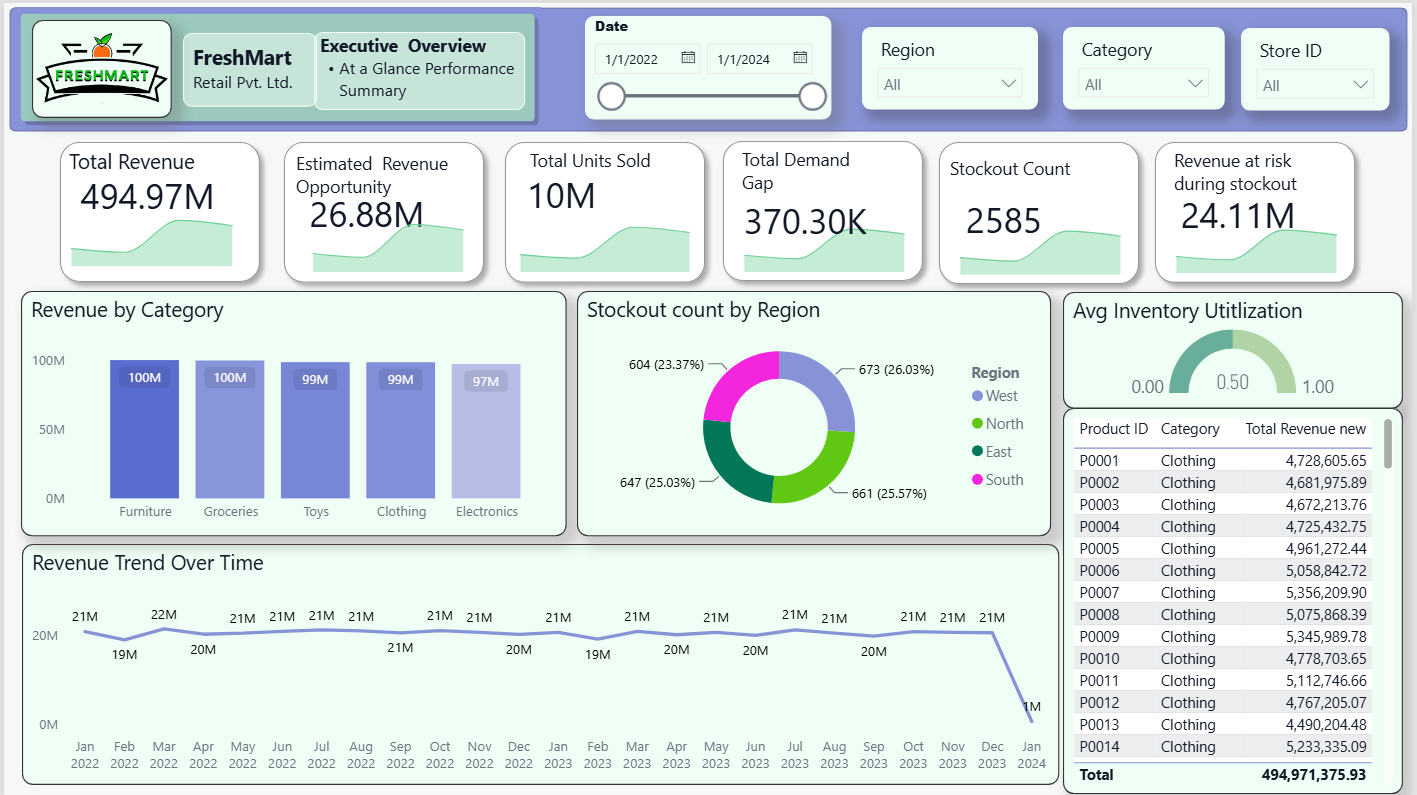

This screenshot's page, from the dashboard's own definition file:
{"tool":"powerbi","page":{"name":"FreshMart Revenue Leakage Investigation Dashboard","canvas":[1280,720],"ordinal":0},"visuals":[{"type":"shape","box":[0.9,0,1279.1,120.9],"z":1000},{"type":"slicer","fields":{"Values":["inventory_records.Date"]},"box":[527.8,12.2,224.4,94.4],"z":2000},{"type":"lineChart","title":"Revenue Trend Over Time","fields":{"Category":["Calendar.Month Year"],"Y":["inventory_records.Total Revenue new"]},"box":[16.7,492.2,943.3,218.9],"z":3000},{"type":"clusteredColumnChart","title":"Revenue by Category","fields":{"Category":["inventory_records.Category"],"Y":["inventory_records.Total Revenue new"]},"box":[15.7,261.4,496,222.5],"z":4000},{"type":"donutChart","fields":{"Category":["inventory_records.Region"],"Y":["inventory_records.Stockout count"]},"box":[521,262,431.4,222.9],"z":5000},{"type":"gauge","fields":{"Y":["inventory_records.Avg Inventory Utitlization"]},"box":[962.9,262.9,308.6,105.7],"z":6000},{"type":"tableEx","fields":{"Values":["inventory_records.Product ID","inventory_records.Category","inventory_records.Total Revenue new"]},"box":[962.9,368.6,308.6,351.4],"z":7000},{"type":"slicer","fields":{"Values":["inventory_records.Store ID"]},"box":[1124.3,22.9,135.5,74.5],"z":8000},{"type":"slicer","fields":{"Values":["inventory_records.Category"]},"box":[963,22,147,75],"z":9000},{"type":"slicer","fields":{"Values":["inventory_records.Region"]},"box":[780,21.8,160,75.5],"z":11000},{"type":"group","id":"g1","title":"Group 1","box":[42,117.5,200,146],"z":12000},{"type":"group","id":"g2","title":"Group 2","box":[245.7,117,200,145.8],"z":13000},{"type":"group","id":"g3","title":"Group 3","box":[446,117,200,146],"z":14000},{"type":"group","id":"g4","title":"Group 4","box":[644.5,116.2,200,146.2],"z":15000},{"type":"group","id":"g5","title":"Group 4","box":[840.7,117.5,200,147.2],"z":16000},{"type":"shape","box":[9.1,3.6,479.4,110],"z":16500,"group":"g23"},{"type":"group","id":"g6","title":"Group 4","box":[1037,117,200.1,146.2],"z":17000},{"type":"group","id":"g7","title":"Group 7","box":[245.7,117,200,145.8],"z":17001,"group":"g2"},{"type":"group","id":"g8","title":"Group 6","box":[446,117,200,146],"z":17001,"group":"g3"},{"type":"group","id":"g9","title":"Group 9","box":[9.1,3.6,479.1,110],"z":18000},{"type":"image","box":[25.8,15.1,127.4,88.7],"z":18000,"group":"g23"},{"type":"group","id":"g10","title":"Group 3","box":[644.5,116.2,199.9,145.4],"z":18000,"group":"g4"},{"type":"group","id":"g11","title":"Group 2","box":[644.5,116.2,199.9,145.4],"z":18000,"group":"g10"},{"type":"shape","box":[644.5,116.2,199.9,145.4],"z":18000,"group":"g18"},{"type":"shape","box":[245.7,117,200,145.8],"z":18000,"group":"g19"},{"type":"group","id":"g12","title":"Group 2","box":[446,117,200,146],"z":18000,"group":"g8"},{"type":"shape","box":[446,117,200,146],"z":18000,"group":"g20"},{"type":"group","id":"g13","title":"Group 3","box":[1037,117,200.1,146.2],"z":18000,"group":"g17"},{"type":"group","id":"g14","title":"Group 2","box":[1037,117,200.1,146.2],"z":18000,"group":"g13"},{"type":"shape","box":[1037,117,200.1,146.2],"z":18000,"group":"g21"},{"type":"shape","box":[42,117.5,199.9,145.4],"z":18000,"group":"g1"},{"type":"group","id":"g15","title":"Group 3","box":[840.7,117.5,200,147.2],"z":18000,"group":"g5"},{"type":"group","id":"g16","title":"Group 2","box":[840.7,117.5,200,147.2],"z":18000,"group":"g15"},{"type":"shape","box":[840.7,117.5,200,147.2],"z":18000,"group":"g22"},{"type":"group","id":"g17","title":"Group 5","box":[1037,117,200.1,146.2],"z":18002,"group":"g6"},{"type":"textbox","box":[281.9,26.2,192,71],"z":18500},{"type":"card","fields":{"Values":["inventory_records.Revenue at Risk During Stockouts"]},"box":[1064.5,172.9,115,37.5],"z":18500,"group":"g17"},{"type":"card","fields":{"Values":["inventory_records.Stockout count"]},"box":[855.2,177.4,106.7,39.5],"z":18500,"group":"g5"},{"type":"card","fields":{"Values":["inventory_records.Total Demand Gap"]},"box":[664.2,180,128,36.2],"z":18500,"group":"g4"},{"type":"textbox","box":[163,27.6,121.5,67],"z":19000,"group":"g23"},{"type":"group","id":"g18","title":"Group 1","box":[644.5,116.2,199.9,145.4],"z":19000,"group":"g11"},{"type":"group","id":"g19","title":"Group 1","box":[245.7,117,200,145.8],"z":19000,"group":"g7"},{"type":"group","id":"g20","title":"Group 1","box":[446,117,200,146],"z":19000,"group":"g12"},{"type":"group","id":"g21","title":"Group 1","box":[1037,117,200.1,146.2],"z":19000,"group":"g14"},{"type":"group","id":"g22","title":"Group 1","box":[840.7,117.5,200,147.2],"z":19000,"group":"g16"},{"type":"card","fields":{"Values":["inventory_records.Total Units sold"]},"box":[463.3,159.5,86.5,28.3],"z":19000,"group":"g8"},{"type":"card","fields":{"Values":["inventory_records.Total Revenue new"]},"box":[59.6,161.9,143.3,27.4],"z":19000,"group":"g1"},{"type":"card","fields":{"Values":["inventory_records.Estimated Revenue Opportunity new"]},"box":[263.2,177,134.8,28.3],"z":19000,"group":"g19"},{"type":"group","id":"g23","title":"Group 8","box":[9.1,3.6,479.4,110],"z":19001,"group":"g9"},{"type":"textbox","box":[670.4,130.3,146.9,42.3],"z":20000,"group":"g18"},{"type":"textbox","box":[59.4,131.2,147.7,27.4],"z":20000,"group":"g1"},{"type":"textbox","box":[477.7,131.2,142.7,28.3],"z":20000,"group":"g20"},{"type":"textbox","box":[1063,131.2,147.1,42.5],"z":20000,"group":"g21"},{"type":"textbox","box":[265.7,133.8,159.7,42.8],"z":20000,"group":"g19"},{"type":"textbox","box":[859.8,139.4,147,42.8],"z":20000,"group":"g22"},{"type":"lineChart","fields":{"Category":["Calendar.Date.Variation.Date Hierarchy.Quarter"],"Y":["inventory_records.Total Revenue new"]},"box":[42,185.1,185.3,55.2],"z":21000,"group":"g1"},{"type":"lineChart","fields":{"Category":["Calendar.Date.Variation.Date Hierarchy.Quarter"],"Y":["inventory_records.Total Revenue new"]},"box":[263,187.7,173,56.6],"z":21000,"group":"g7"},{"type":"lineChart","fields":{"Y":["inventory_records.Total Revenue new"],"Category":["Calendar.Date.Variation.Date Hierarchy.Quarter"]},"box":[449,190.9,194.6,53.8],"z":21000,"group":"g12"},{"type":"lineChart","fields":{"Y":["inventory_records.Total Revenue new"],"Category":["Calendar.Date.Variation.Date Hierarchy.Quarter"]},"box":[653.2,192.4,184.2,51.9],"z":21000,"group":"g11"},{"type":"lineChart","fields":{"Y":["inventory_records.Total Revenue new"],"Category":["Calendar.Date.Variation.Date Hierarchy.Quarter"]},"box":[1045.7,193.6,184.4,52.2],"z":21000,"group":"g14"},{"type":"lineChart","fields":{"Y":["inventory_records.Total Revenue new"],"Category":["Calendar.Date.Variation.Date Hierarchy.Quarter"]},"box":[849.4,194.6,184.3,52.6],"z":21000,"group":"g16"}]}

Visuals, with their boxes in screenshot pixels (x1, y1, x2, y2), scaled from the page's 1280x720 canvas onto the 1417x795 screenshot:
shape: region(1, 0, 1416, 133)
slicer - inventory_records.Date: region(584, 13, 833, 118)
"Revenue Trend Over Time" lineChart: region(18, 543, 1063, 785)
"Revenue by Category" clusteredColumnChart: region(17, 289, 566, 534)
donutChart - inventory_records.Region x inventory_records.Stockout count: region(577, 289, 1054, 535)
gauge - inventory_records.Avg Inventory Utitlization: region(1066, 290, 1408, 407)
tableEx - inventory_records.Product ID x inventory_records.Category: region(1066, 407, 1408, 794)
slicer - inventory_records.Store ID: region(1245, 25, 1395, 108)
slicer - inventory_records.Category: region(1066, 24, 1229, 107)
slicer - inventory_records.Region: region(863, 24, 1041, 107)
"Group 1" group: region(46, 130, 268, 291)
"Group 2" group: region(272, 129, 493, 290)
"Group 3" group: region(494, 129, 715, 290)
"Group 4" group: region(713, 128, 935, 290)
"Group 4" group: region(931, 130, 1152, 292)
shape: region(10, 4, 541, 125)
"Group 4" group: region(1148, 129, 1370, 291)
"Group 7" group: region(272, 129, 493, 290)
"Group 6" group: region(494, 129, 715, 290)
"Group 9" group: region(10, 4, 540, 125)
image: region(29, 17, 170, 115)
"Group 3" group: region(713, 128, 935, 289)
"Group 2" group: region(713, 128, 935, 289)
shape: region(713, 128, 935, 289)
shape: region(272, 129, 493, 290)
"Group 2" group: region(494, 129, 715, 290)
shape: region(494, 129, 715, 290)
"Group 3" group: region(1148, 129, 1370, 291)
"Group 2" group: region(1148, 129, 1370, 291)
shape: region(1148, 129, 1370, 291)
shape: region(46, 130, 268, 290)
"Group 3" group: region(931, 130, 1152, 292)
"Group 2" group: region(931, 130, 1152, 292)
shape: region(931, 130, 1152, 292)
"Group 5" group: region(1148, 129, 1370, 291)
textbox: region(312, 29, 525, 107)
card - inventory_records.Revenue at Risk During Stockouts: region(1178, 191, 1306, 232)
card - inventory_records.Stockout count: region(947, 196, 1065, 239)
card - inventory_records.Total Demand Gap: region(735, 199, 877, 239)
textbox: region(180, 30, 315, 104)
"Group 1" group: region(713, 128, 935, 289)
"Group 1" group: region(272, 129, 493, 290)
"Group 1" group: region(494, 129, 715, 290)
"Group 1" group: region(1148, 129, 1370, 291)
"Group 1" group: region(931, 130, 1152, 292)
card - inventory_records.Total Units sold: region(513, 176, 609, 207)
card - inventory_records.Total Revenue new: region(66, 179, 225, 209)
card - inventory_records.Estimated Revenue Opportunity new: region(291, 195, 441, 227)
"Group 8" group: region(10, 4, 541, 125)
textbox: region(742, 144, 905, 191)
textbox: region(66, 145, 229, 175)
textbox: region(529, 145, 687, 176)
textbox: region(1177, 145, 1340, 192)
textbox: region(294, 148, 471, 195)
textbox: region(952, 154, 1115, 201)
lineChart - Calendar.Date.Variation.Date Hierarchy.Quarter x inventory_records.Total Revenue new: region(46, 204, 252, 265)
lineChart - Calendar.Date.Variation.Date Hierarchy.Quarter x inventory_records.Total Revenue new: region(291, 207, 483, 270)
lineChart - inventory_records.Total Revenue new x Calendar.Date.Variation.Date Hierarchy.Quarter: region(497, 211, 712, 270)
lineChart - inventory_records.Total Revenue new x Calendar.Date.Variation.Date Hierarchy.Quarter: region(723, 212, 927, 270)
lineChart - inventory_records.Total Revenue new x Calendar.Date.Variation.Date Hierarchy.Quarter: region(1158, 214, 1362, 271)
lineChart - inventory_records.Total Revenue new x Calendar.Date.Variation.Date Hierarchy.Quarter: region(940, 215, 1144, 273)
